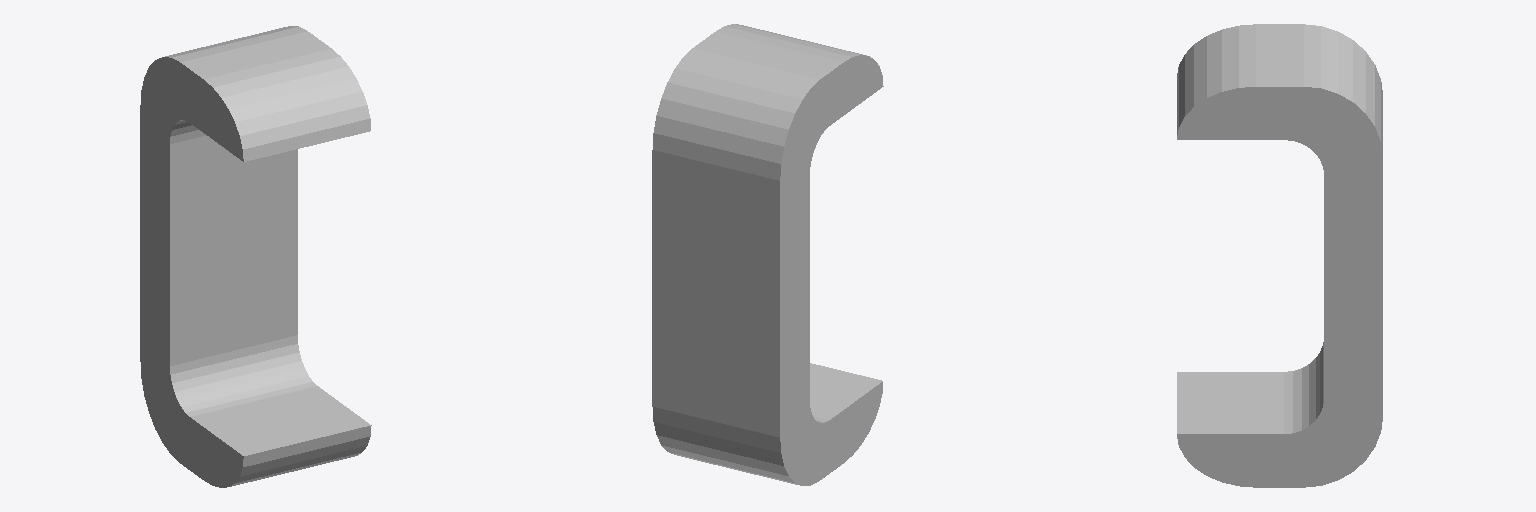
File: LightWoodObjects.obj
3 renders of one model, left to right at view 1: azimuth 30°, elevation 25°; view 2: azimuth 150°, elevation 25°; view 3: azimuth 270°, elevation 25°, orthographic.
Parts seen in each view (by area): view 1: LightWoodObjects; view 2: LightWoodObjects; view 3: LightWoodObjects.
Part boxes in pixels (left/top/right/bottom): LightWoodObjects: left=140, top=26, right=371, bottom=487; LightWoodObjects: left=652, top=24, right=883, bottom=485; LightWoodObjects: left=1177, top=24, right=1382, bottom=487.
Size of the model in its own units: 0.1 by 0.3 by 0.14.